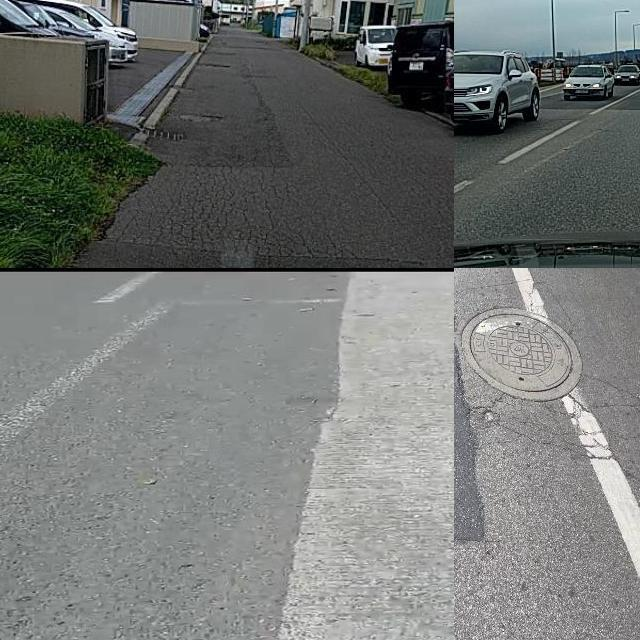Lubang: (464, 307, 585, 396)
Sambungan: (267, 268, 454, 640)
